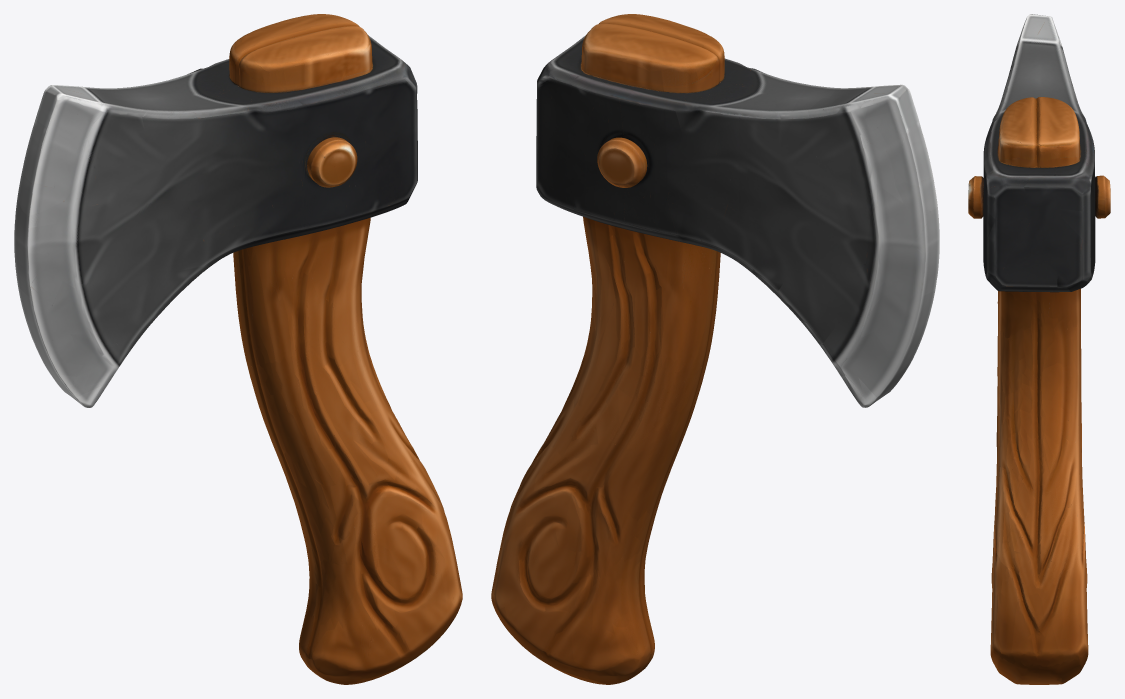
File: axe-meshy.glb
3 renders of one model, left to right at view 1: azimuth 30°, elevation 25°; view 2: azimuth 150°, elevation 25°; view 3: azimuth 270°, elevation 25°, orthographic. The views are drawn at different scales.
Visible parts, largest first — view 1: Mesh_0; view 2: Mesh_0; view 3: Mesh_0.
Part boxes in pixels (bbox=[...]): Mesh_0: bbox=[14, 14, 462, 684]; Mesh_0: bbox=[491, 14, 939, 684]; Mesh_0: bbox=[968, 14, 1110, 684].
Bounding box in the file's own units: 1.3 × 1.9 × 0.4514.
1 material, 1 textured.
